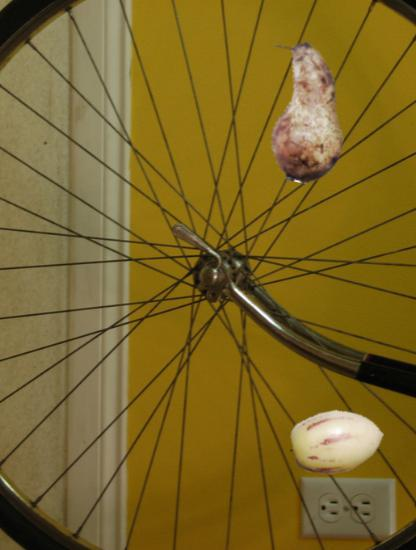Pear: (236, 44, 374, 182)
Pepino: (289, 394, 385, 490)
